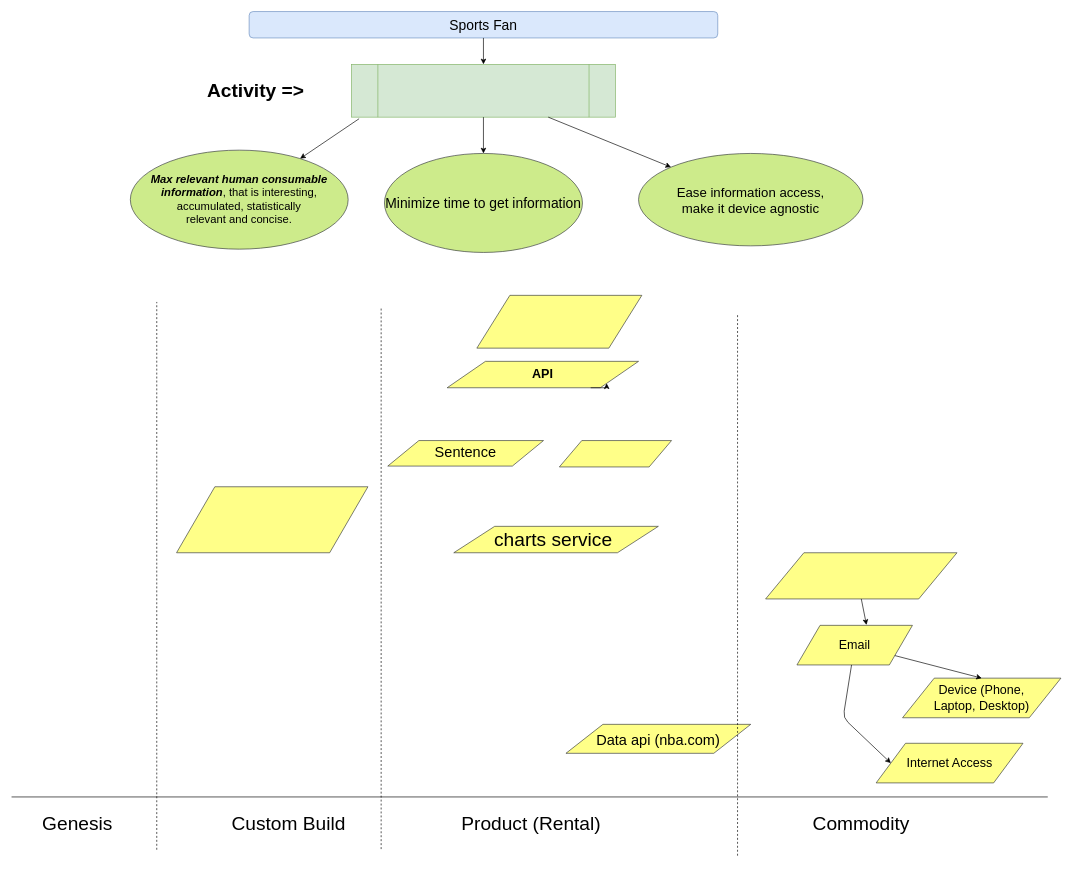
This 1073x869 diagram has some shape labels left out. The shapes that lost their labels are listed below. From the top down, each one's box as (x1, y1, x2, y2) in pixels, then its label:
(351, 64, 615, 117): Track past games scores and stats
(476, 295, 642, 348): Web app (getdailyscore.com)
(559, 440, 672, 467): Chart
(176, 486, 368, 553): ML service that extracts human consumable data from numbers
(765, 552, 957, 599): Data Distribution
